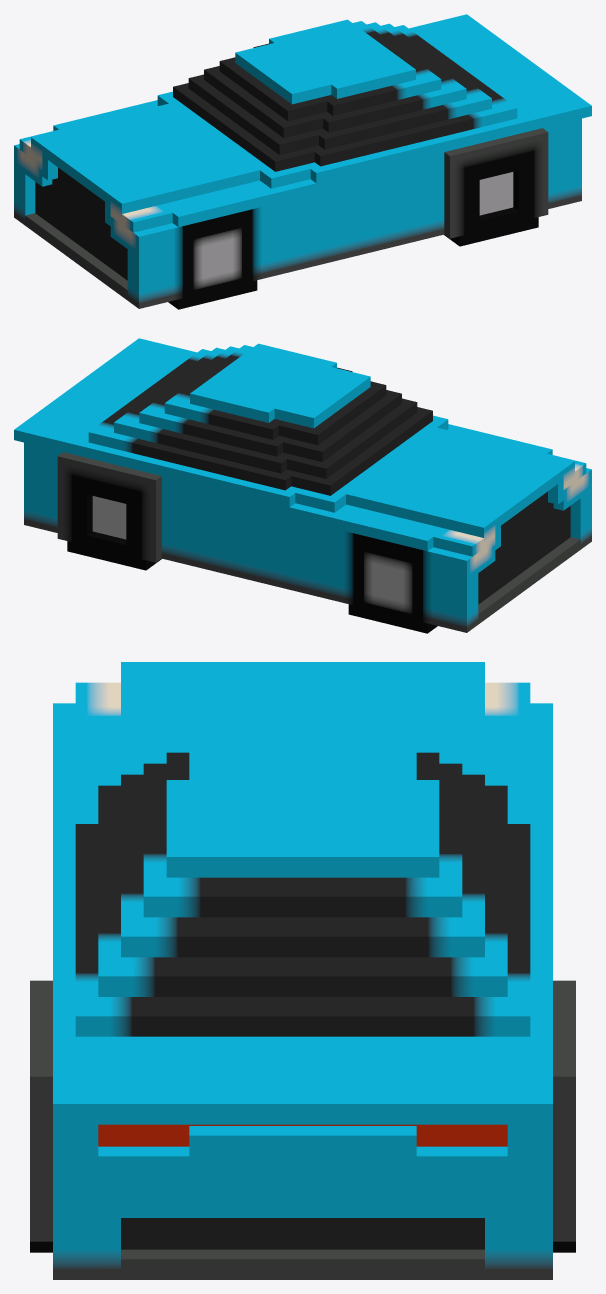
Rendered from BlueBird.obj.
The picture shows the model from 3 angles, top to bottom: view 1: azimuth 30°, elevation 25°; view 2: azimuth 150°, elevation 25°; view 3: azimuth 270°, elevation 25°; orthographic projection. The views are drawn at different scales.
Visible parts, largest first — view 1: Car10; view 2: Car10; view 3: Car10.
Boxes of the visible parts, x1=… form: Car10: x1=14, y1=14, x2=591, y2=309; Car10: x1=14, y1=338, x2=591, y2=633; Car10: x1=30, y1=662, x2=575, y2=1279.
Size of the model in its own units: 2.3 by 0.75 by 1.2.
1 material, 1 textured.
